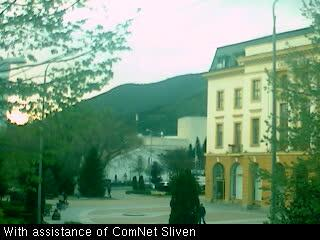person: (198, 204, 207, 224), (106, 183, 113, 198), (62, 190, 67, 201)
